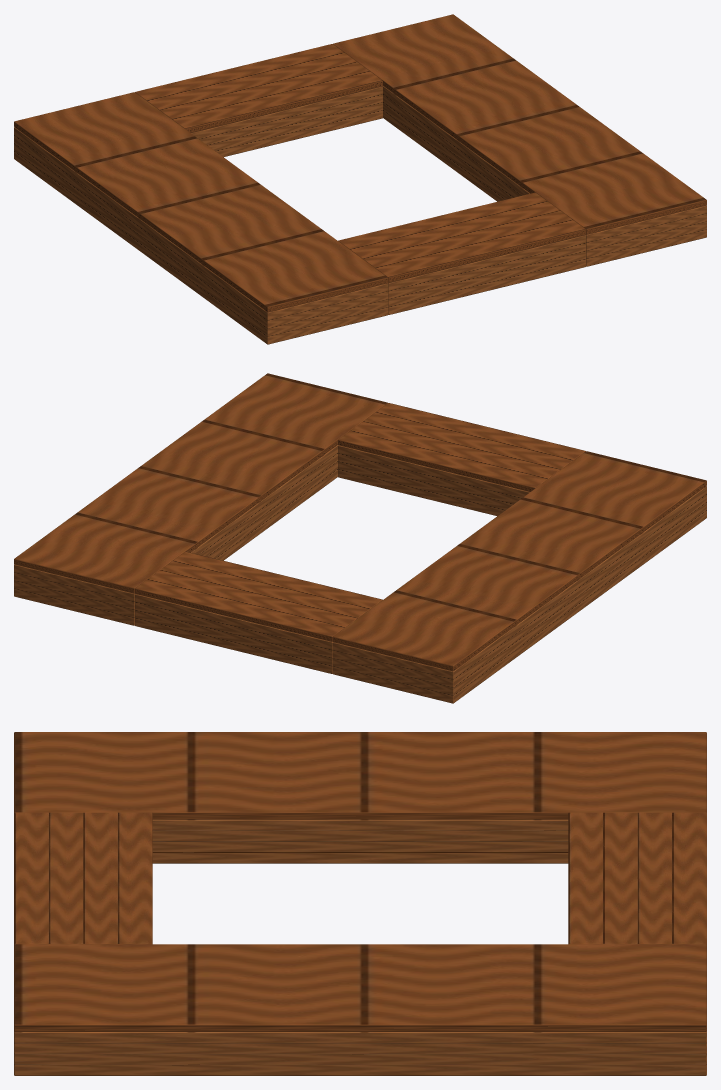
The model's file is paranormal-investigation-house-attic-opening-floor-ec17730d__26713.glb.
3 views of the same model, one above another, from view 1: azimuth 30°, elevation 25°; view 2: azimuth 150°, elevation 25°; view 3: azimuth 270°, elevation 25° (orthographic). The views are drawn at different scales.
Parts seen in each view (by area): view 1: attic-opening-floor; view 2: attic-opening-floor; view 3: attic-opening-floor.
Boxes of the visible parts, x1,y1,x2,y2 form: attic-opening-floor: (14, 14, 706, 344); attic-opening-floor: (14, 373, 706, 703); attic-opening-floor: (14, 732, 706, 1075).
Bounding box in the file's own units: 2 × 0.1649 × 2.
Materials: 2 (2 with a texture image).
